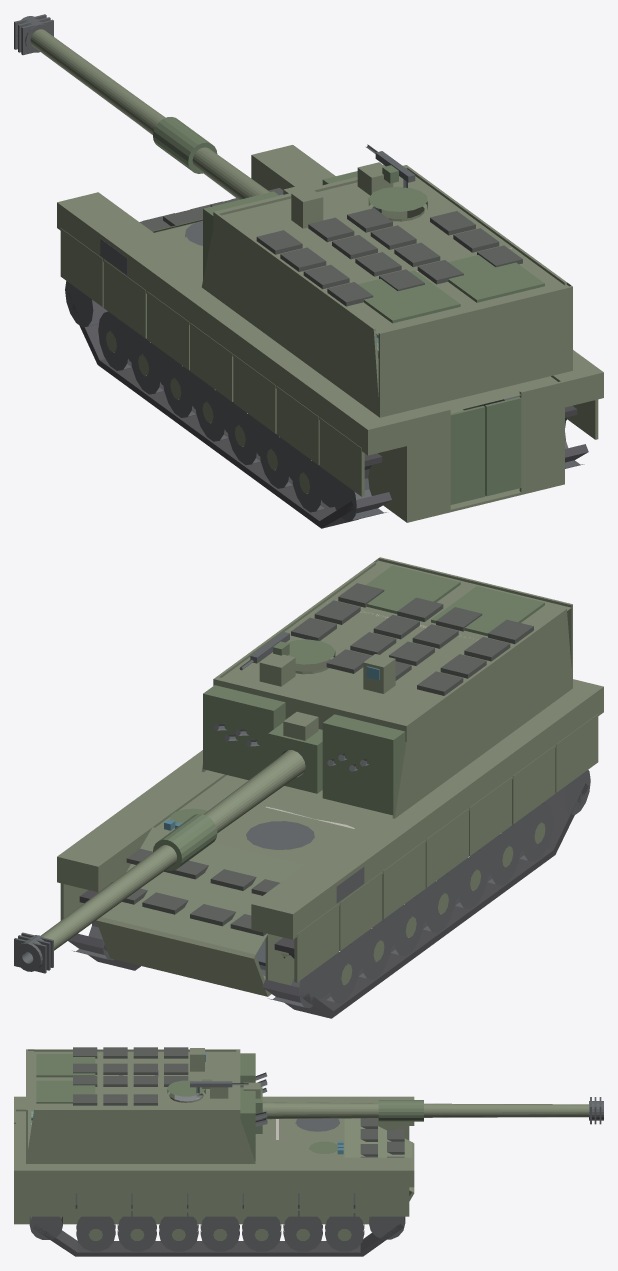
Rendered from pzh2000-ext.glb.
The picture shows the model from 3 angles, top to bottom: view 1: azimuth 30°, elevation 25°; view 2: azimuth 150°, elevation 25°; view 3: azimuth 270°, elevation 25°; orthographic projection. The views are drawn at different scales.
Visible parts, largest first — view 1: ext_turret_rear_wall, ext_hull_sponson_deck_left, ext_turret_side_left, ext_turret_roof_plate, ext_gun_155mm_l52_barrel, ext_hull_rear_frame_left, ext_hull_rear_frame_right, ext_hull_sponson_deck_right, ext_hull_rear_door_right, ext_track_lower_l, ext_hull_rear_door_left, ext_bustle_blowout_panel_right (+44 smaller); view 2: ext_hull_sponson_deck_left, ext_turret_side_left, ext_turret_roof_plate, ext_hull_upper_glacis, ext_hull_sponson_deck_right, ext_turret_front_cheek_left, ext_hull_roof_deck, ext_hull_lower_glacis, ext_gun_155mm_l52_barrel, ext_turret_front_cheek_right, ext_track_lower_l, ext_turret_front_mantlet_bulkhead (+51 smaller); view 3: ext_turret_side_right, ext_hull_sponson_deck_right, ext_turret_roof_plate, ext_gun_155mm_l52_barrel, ext_hull_roof_deck, ext_track_lower_r, ext_side_skirt_r_1, ext_side_skirt_r_2, ext_side_skirt_r_4, ext_side_skirt_r_5, ext_side_skirt_r_6, ext_side_skirt_r_7 (+36 smaller).
Boxes of the visible parts, x1=… form: ext_turret_rear_wall: x1=378, y1=285, x2=572, y2=417; ext_hull_sponson_deck_left: x1=57, y1=192, x2=409, y2=455; ext_turret_side_left: x1=202, y1=213, x2=379, y2=417; ext_turret_roof_plate: x1=222, y1=176, x2=571, y2=334; ext_gun_155mm_l52_barrel: x1=30, y1=29, x2=269, y2=199; ext_hull_rear_frame_left: x1=405, y1=408, x2=450, y2=519; ext_hull_rear_frame_right: x1=519, y1=381, x2=564, y2=492; ext_hull_sponson_deck_right: x1=251, y1=145, x2=603, y2=407; ext_hull_rear_door_right: x1=485, y1=397, x2=521, y2=496; ext_track_lower_l: x1=97, y1=359, x2=336, y2=528; ext_hull_rear_door_left: x1=450, y1=406, x2=485, y2=504; ext_bustle_blowout_panel_right: x1=448, y1=255, x2=544, y2=302; ext_hull_sponson_deck_left: x1=251, y1=679, x2=603, y2=939; ext_turret_side_left: x1=392, y1=608, x2=572, y2=818; ext_turret_roof_plate: x1=222, y1=558, x2=571, y2=723; ext_hull_upper_glacis: x1=101, y1=827, x2=305, y2=954; ext_hull_sponson_deck_right: x1=57, y1=750, x2=225, y2=892; ext_turret_front_cheek_left: x1=322, y1=714, x2=405, y2=815; ext_hull_roof_deck: x1=155, y1=775, x2=377, y2=864; ext_hull_lower_glacis: x1=96, y1=917, x2=269, y2=996; ext_gun_155mm_l52_barrel: x1=41, y1=750, x2=305, y2=950; ext_turret_front_cheek_right: x1=203, y1=685, x2=285, y2=780; ext_track_lower_l: x1=319, y1=849, x2=555, y2=1018; ext_turret_front_mantlet_bulkhead: x1=213, y1=677, x2=409, y2=808; ext_turret_side_right: x1=26, y1=1109, x2=255, y2=1163; ext_hull_sponson_deck_right: x1=14, y1=1157, x2=414, y2=1187; ext_turret_roof_plate: x1=28, y1=1049, x2=236, y2=1111; ext_gun_155mm_l52_barrel: x1=262, y1=1102, x2=588, y2=1119; ext_hull_roof_deck: x1=14, y1=1111, x2=344, y2=1157; ext_track_lower_r: x1=75, y1=1241, x2=363, y2=1256; ext_side_skirt_r_1: x1=355, y1=1185, x2=409, y2=1216; ext_side_skirt_r_2: x1=299, y1=1185, x2=353, y2=1216; ext_side_skirt_r_4: x1=188, y1=1185, x2=242, y2=1216; ext_side_skirt_r_5: x1=132, y1=1185, x2=186, y2=1216; ext_side_skirt_r_6: x1=77, y1=1185, x2=131, y2=1216; ext_side_skirt_r_7: x1=21, y1=1185, x2=75, y2=1216.
Bounding box in the file's own units: 3.48 × 3.43 × 11.67.
